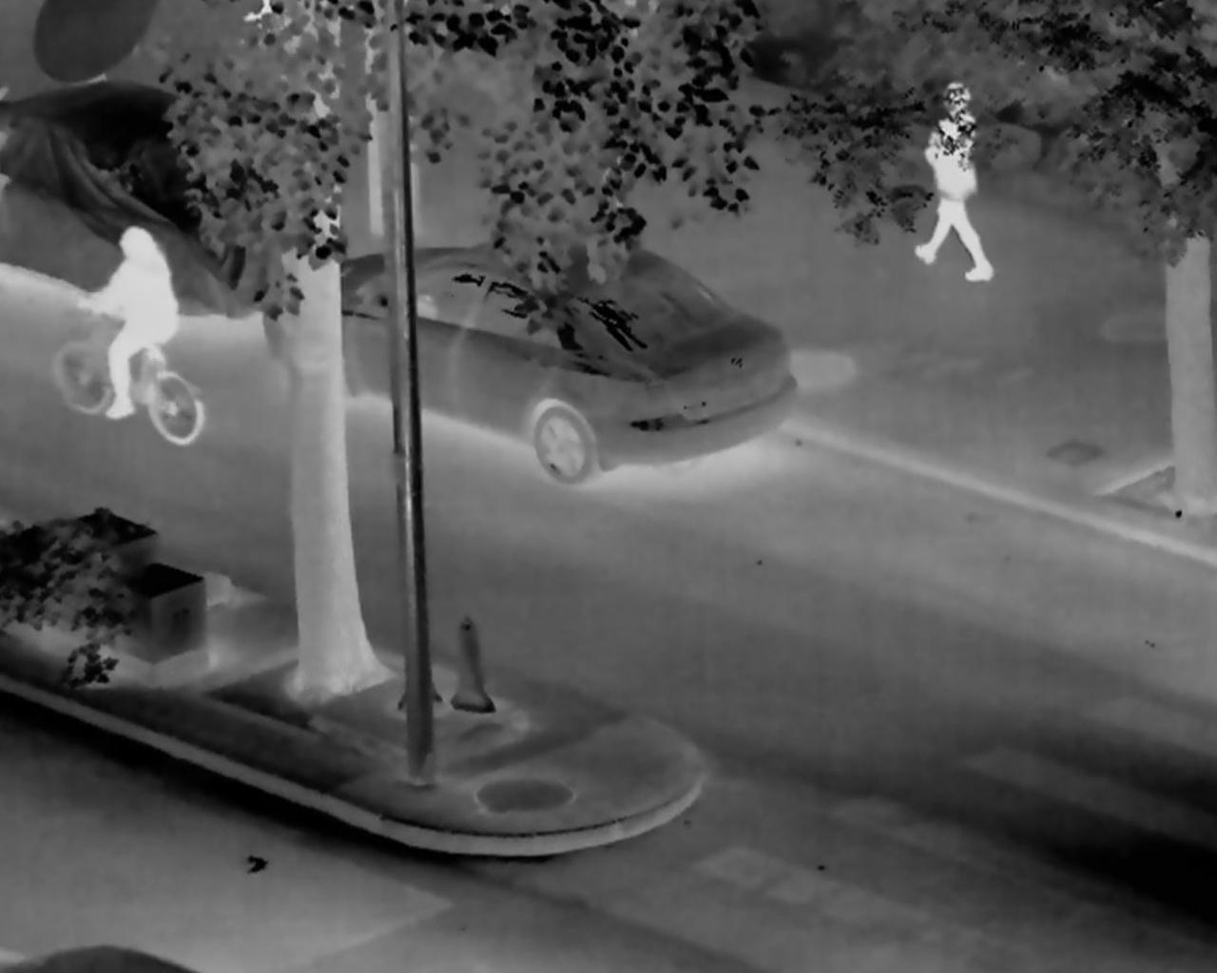person: (75, 224, 183, 419), (915, 80, 992, 282)
